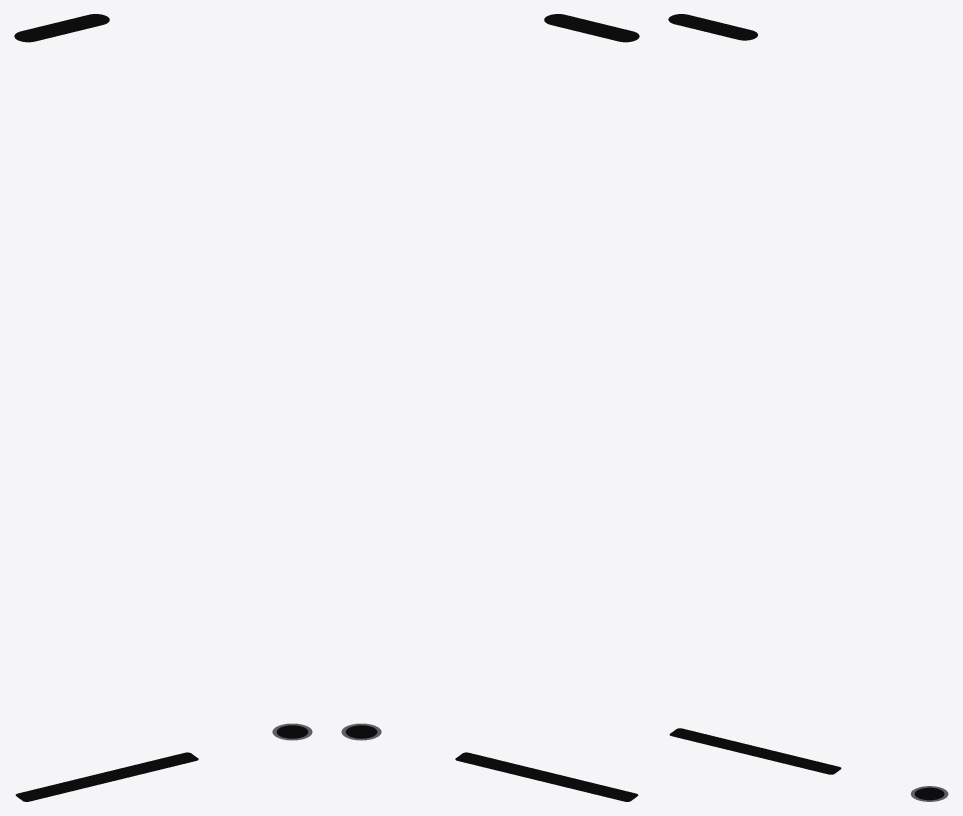
File: nano_ports.obj
3 renders of one model, left to right at view 1: azimuth 30°, elevation 25°; view 2: azimuth 150°, elevation 25°; view 3: azimuth 330°, elevation 25°, orthographic. The views are drawn at different scales.
Size of the model in its own units: 0.0362 by 0.0896 by 0.0043.
Materials: 1 (1 with a texture image).
